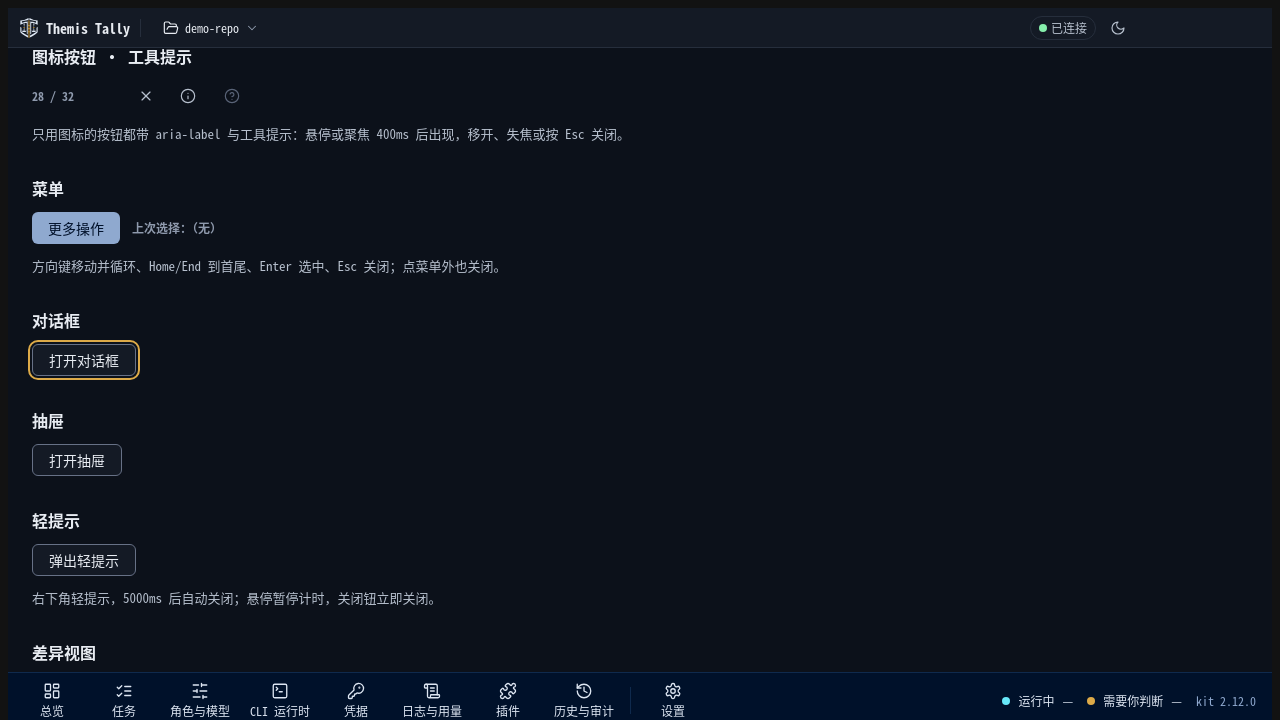
陈列页的 5 节浮层演示 › 对话框演示：「打开对话框」出现模态框，取消后焦点回触发按钮
The image size is (1280, 720).
(page scrolled)
Click the button "打开对话框": {"x": 84, "y": 360} left=32, top=344, right=136, bottom=376
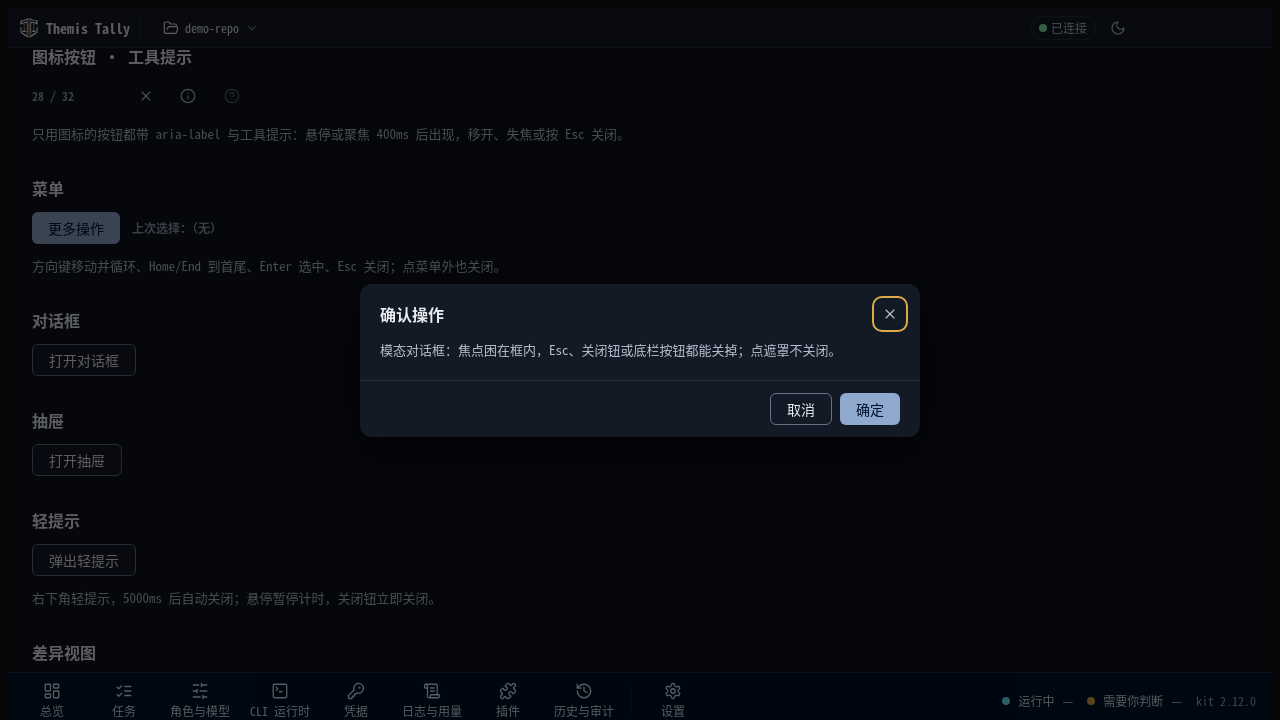
Result: the button "确定" is shown at left=840, top=392, right=900, bottom=424
Result: the button "取消" is shown
Click the button "取消": {"x": 801, "y": 408} left=770, top=392, right=832, bottom=424
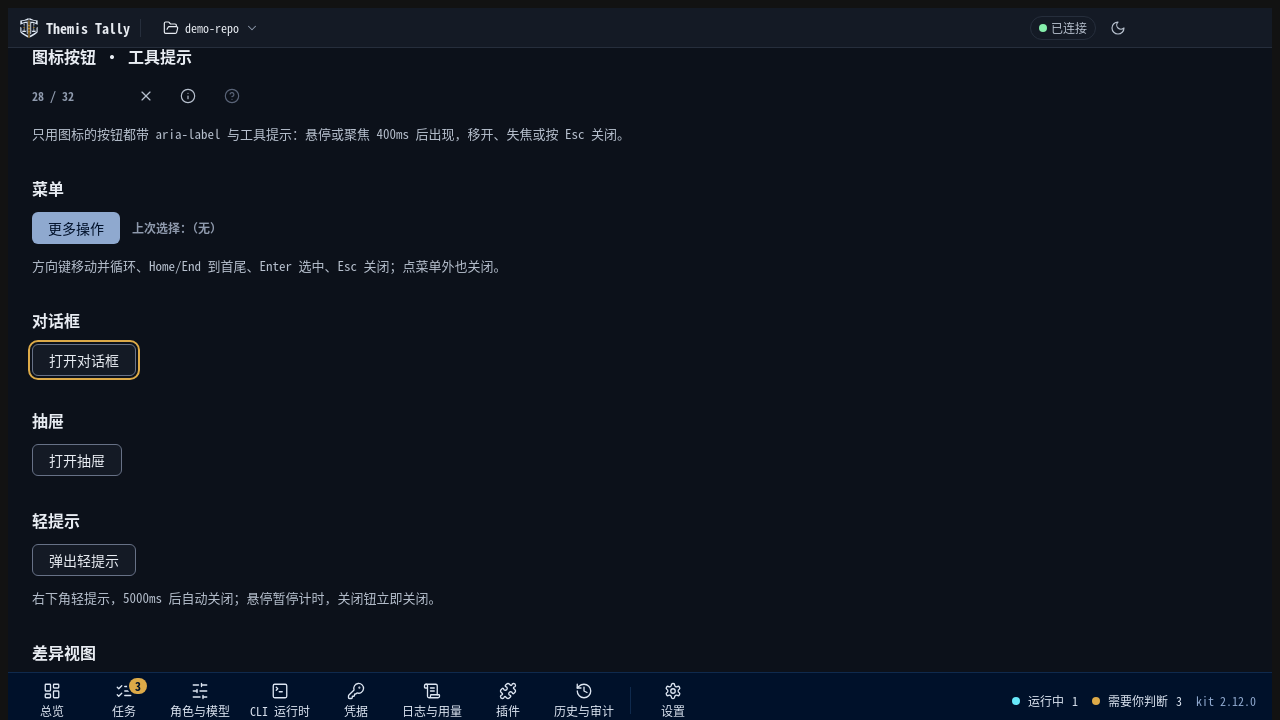
Result: the dialog is gone
